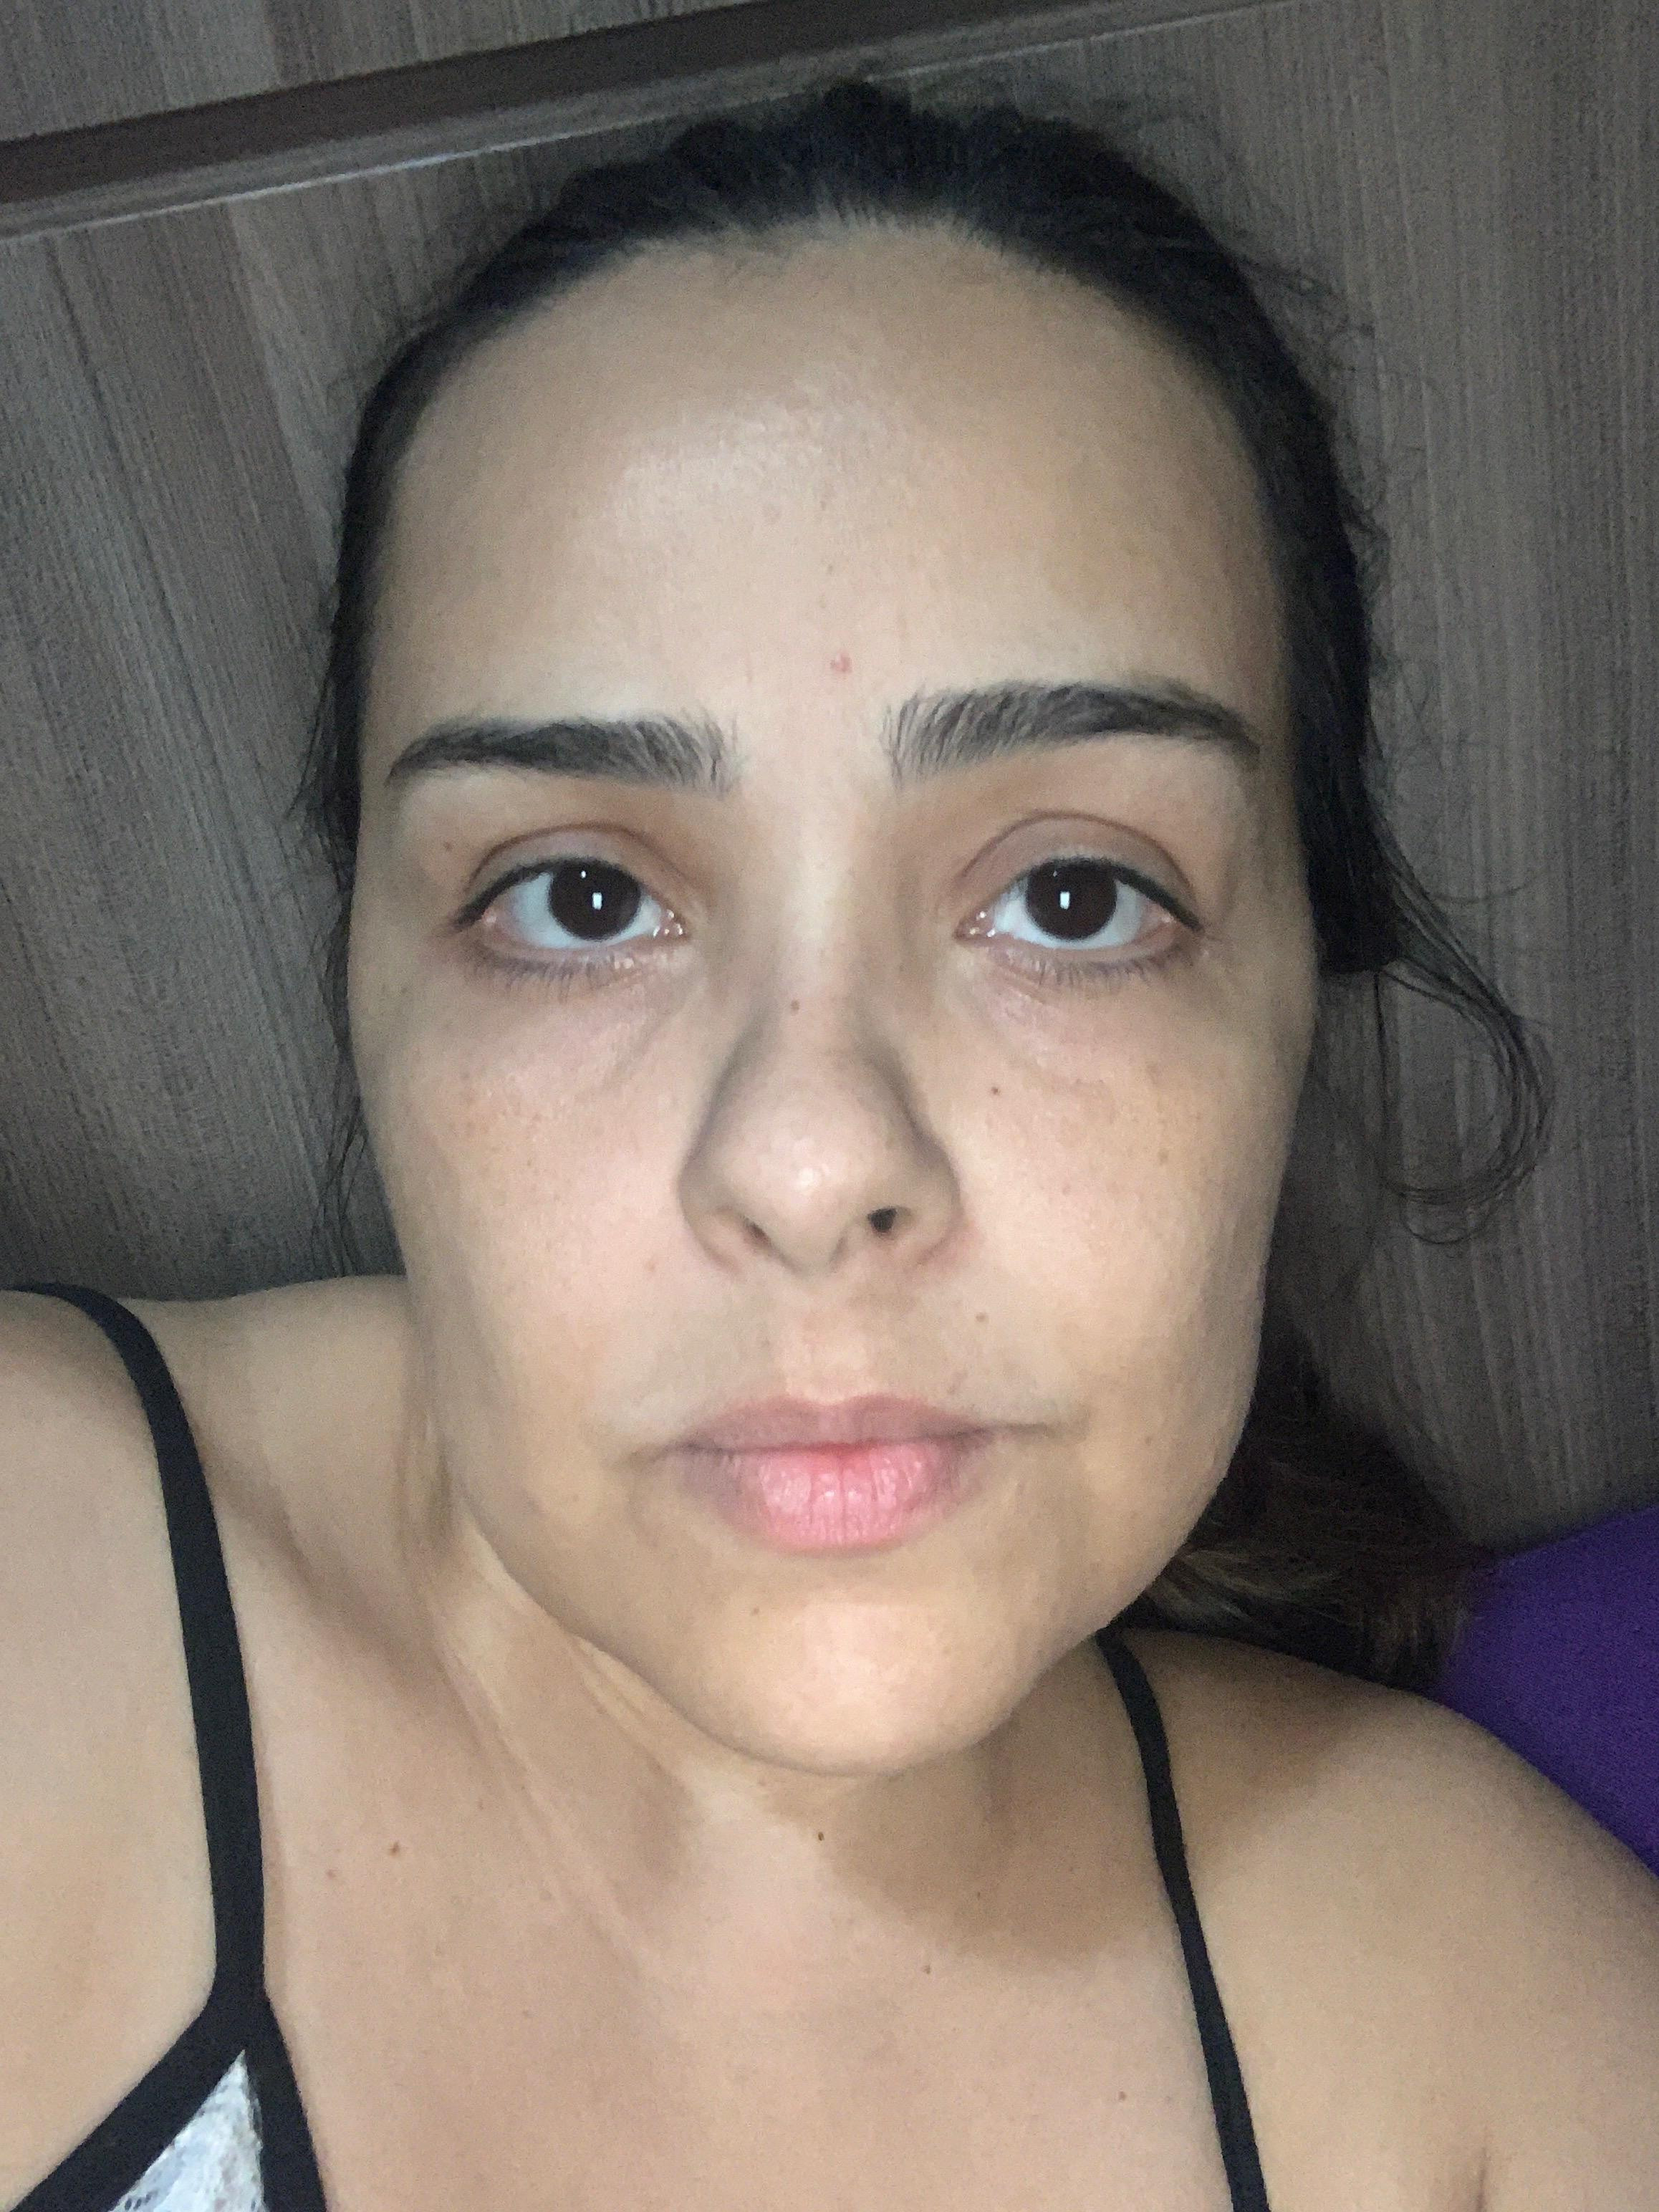Acne: (829, 627, 866, 681)
Blackheads: (810, 489, 847, 523), (819, 550, 849, 589)
